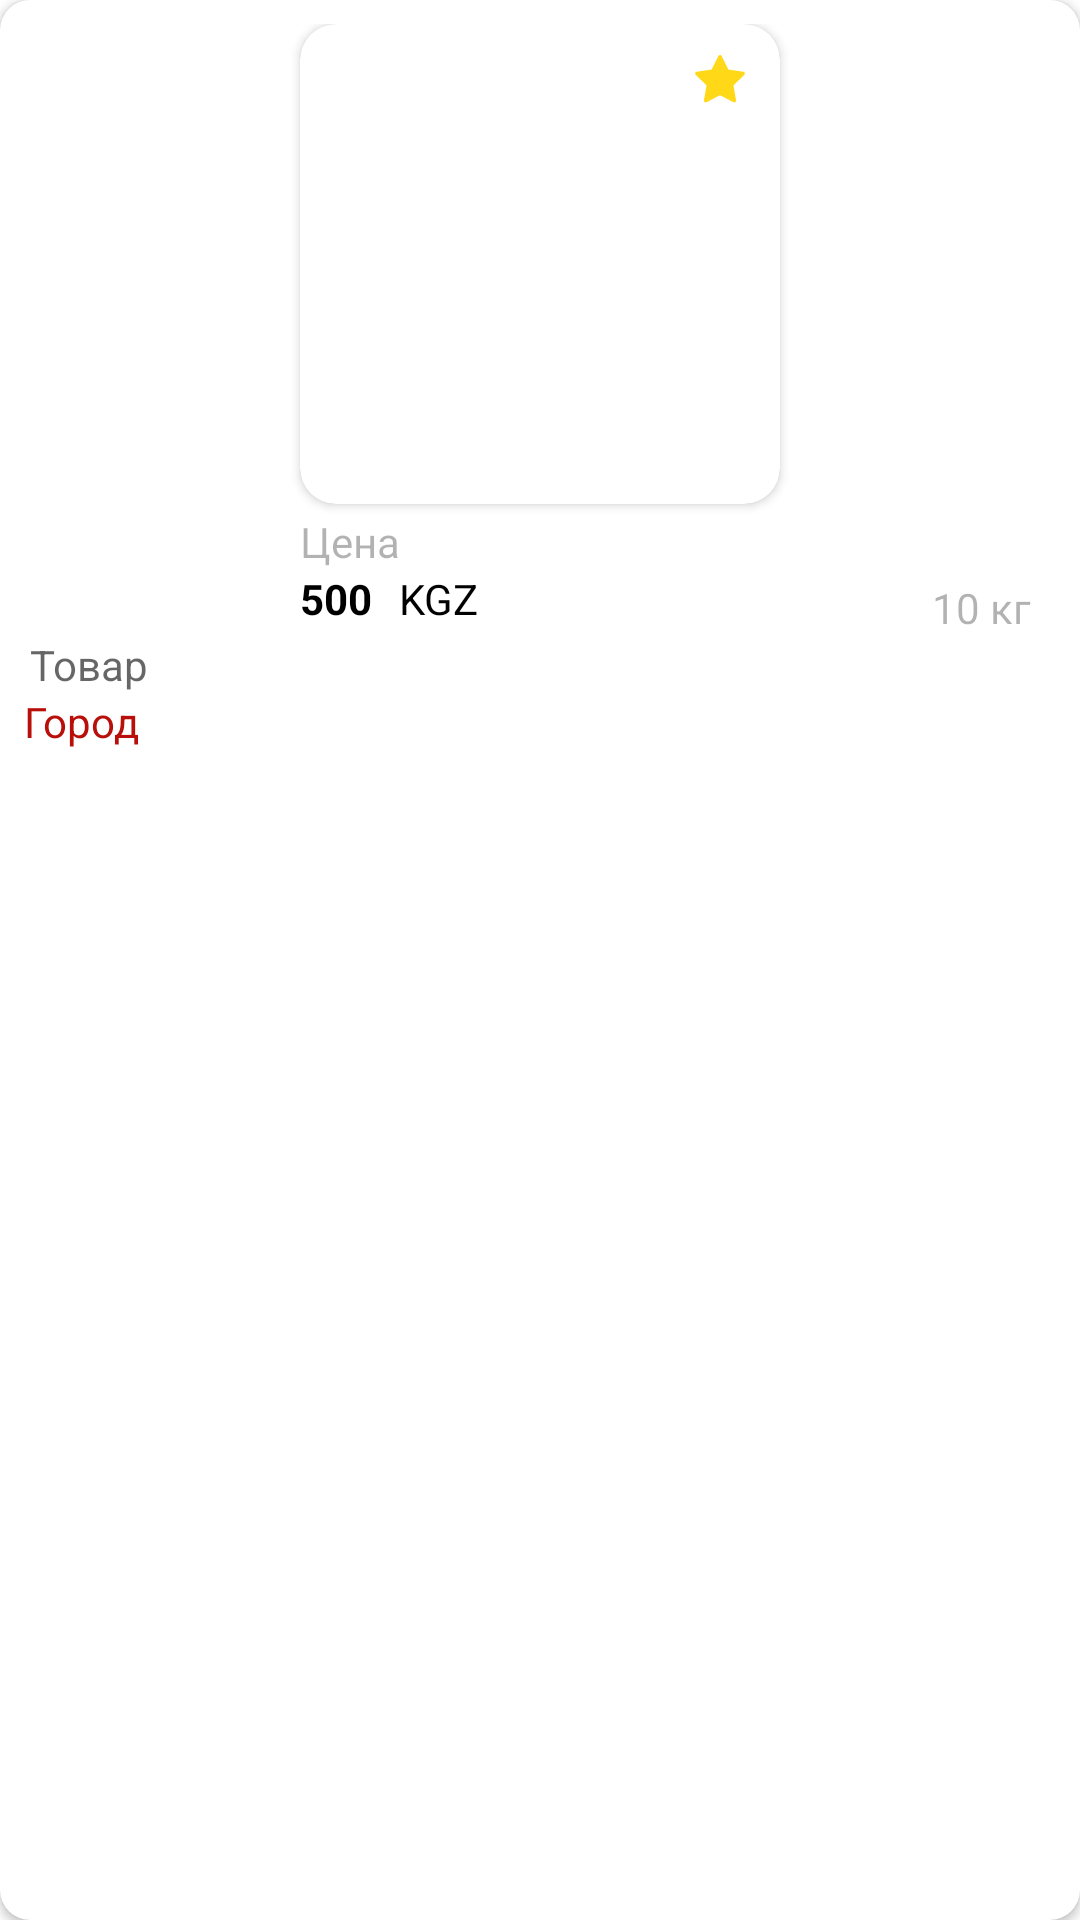

Icons on this 1080w x 1920h Android screen, each with its box as (x1, y1, x2, y2):
star main: (695, 55, 745, 103)
